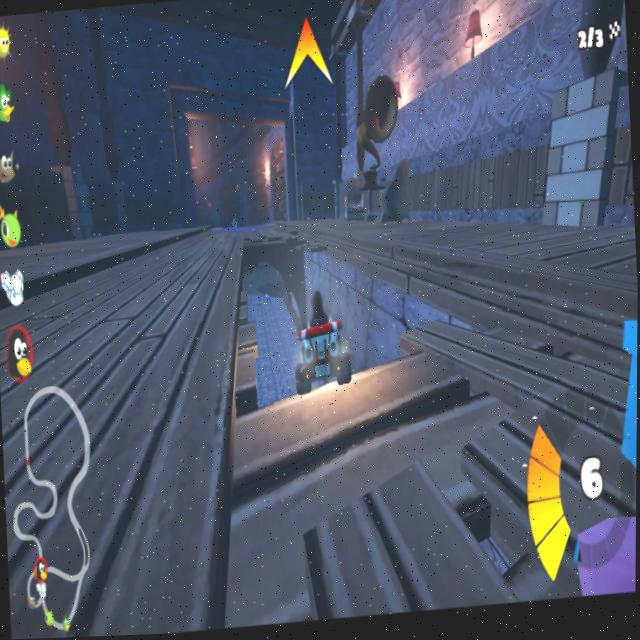bonus: (229, 214, 241, 232), (265, 297, 275, 310)
player_kart: (287, 285, 353, 404)
track: (78, 253, 232, 355)
